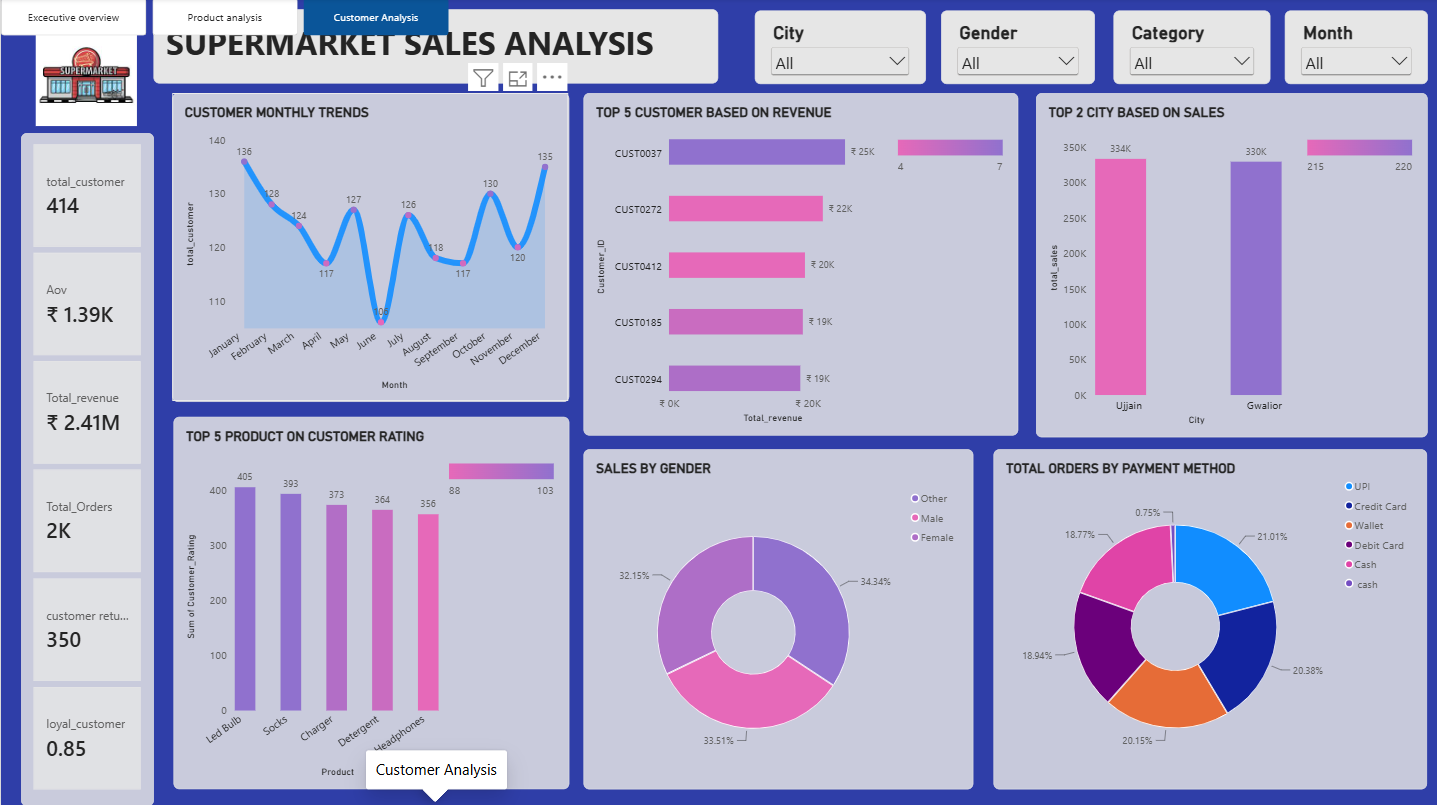

The page's visual inventory and layout, read from the dashboard file:
{"tool":"powerbi","page":{"name":"Customer Analysis","canvas":[1920,1080],"ordinal":2},"visuals":[{"type":"image","box":[0,34.4,228,135.7],"z":0},{"type":"textbox","box":[204.5,14.5,754.6,99.5],"z":1000},{"type":"cardVisual","fields":{"Data":["CATEGORY TARGETS.total_customer","Supermarket_Sales_Customer_Analysis_RAW (2).Aov","Supermarket_Sales_Customer_Analysis_RAW (2).Total_revenue","Supermarket_Sales_Customer_Analysis_RAW (2).Total_Orders","CATEGORY TARGETS.customer returning","Supermarket_Sales_Customer_Analysis_RAW (2).loyal_customer"]},"box":[27.1,181,177.3,899.4],"z":2000},{"type":"lineChart","title":"CUSTOMER MONTHLY TRENDS","fields":{"Category":["Supermarket_Sales_Customer_Analysis_RAW (2).Order_Date.Variation.Date Hierarchy.Month"],"Y":["CATEGORY TARGETS.total_customer"]},"box":[228,126.7,530.2,412.6],"z":3000},{"type":"donutChart","title":"SALES BY GENDER ","fields":{"Category":["Supermarket_Sales_Customer_Analysis_RAW (2).Gender"],"Y":["CATEGORY TARGETS.total_sales"]},"box":[778.2,602.6,521.2,454.2],"z":4000},{"type":"pieChart","title":"TOTAL ORDERS BY PAYMENT METHOD ","fields":{"Category":["Supermarket_Sales_Customer_Analysis_RAW (2).Payment_Method"],"Y":["Supermarket_Sales_Customer_Analysis_RAW (2).Total_Orders"]},"box":[1326.5,602.6,579.1,454.2],"z":5000},{"type":"clusteredColumnChart","title":"TOP 5 PRODUCT ON CUSTOMER RATING ","fields":{"Category":["Supermarket_Sales_Customer_Analysis_RAW (2).Product"],"Y":["Sum(Supermarket_Sales_Customer_Analysis_RAW (2).Customer_Rating)"]},"box":[229.8,559.2,528.4,497.7],"z":6000},{"type":"barChart","title":"TOP 5 CUSTOMER BASED ON REVENUE","fields":{"Category":["Supermarket_Sales_Customer_Analysis_RAW (2).Customer_ID"],"Y":["Supermarket_Sales_Customer_Analysis_RAW (2).Total_revenue"]},"box":[778.2,126.7,580.9,457.8],"z":7000},{"type":"columnChart","title":"TOP 2 CITY BASED ON SALES ","fields":{"Category":["Supermarket_Sales_Customer_Analysis_RAW (2).City"],"Y":["CATEGORY TARGETS.total_sales"]},"box":[1382.6,126.7,523,459.7],"z":8000},{"type":"slicer","fields":{"Values":["Supermarket_Sales_Customer_Analysis_RAW (2).City"]},"box":[1006.5,16.5,228.5,98.8],"z":9000},{"type":"slicer","fields":{"Values":["Supermarket_Sales_Customer_Analysis_RAW (2).Gender"]},"box":[1255.6,16.5,205.8,98.8],"z":10000},{"type":"slicer","fields":{"Values":["Supermarket_Sales_Customer_Analysis_RAW (2).Category"]},"box":[1486.1,16.5,209.9,98.8],"z":11000},{"type":"slicer","fields":{"Values":["Supermarket_Sales_Customer_Analysis_RAW (2).Order_Date.Variation.Date Hierarchy.Month"]},"box":[1714.6,16.5,191.4,98.8],"z":12000},{"type":"pageNavigator","box":[0,0,600,50],"z":13000}]}

Visuals, with their boxes in screenshot pixels (x1, y1, x2, y2):
image: select_region(0, 22, 168, 121)
textbox: select_region(150, 7, 705, 80)
cardVisual - CATEGORY TARGETS.total_customer x Supermarket_Sales_Customer_Analysis_RAW (2).Aov: select_region(20, 129, 150, 790)
"CUSTOMER MONTHLY TRENDS" lineChart: select_region(168, 89, 557, 392)
"SALES BY GENDER " donutChart: select_region(572, 439, 955, 773)
"TOTAL ORDERS BY PAYMENT METHOD " pieChart: select_region(975, 439, 1400, 773)
"TOP 5 PRODUCT ON CUSTOMER RATING " clusteredColumnChart: select_region(169, 407, 557, 773)
"TOP 5 CUSTOMER BASED ON REVENUE" barChart: select_region(572, 89, 998, 426)
"TOP 2 CITY BASED ON SALES " columnChart: select_region(1016, 89, 1400, 427)
slicer - Supermarket_Sales_Customer_Analysis_RAW (2).City: select_region(739, 8, 907, 81)
slicer - Supermarket_Sales_Customer_Analysis_RAW (2).Gender: select_region(922, 8, 1074, 81)
slicer - Supermarket_Sales_Customer_Analysis_RAW (2).Category: select_region(1092, 8, 1246, 81)
slicer - Supermarket_Sales_Customer_Analysis_RAW (2).Order_Date.Variation.Date Hierarchy.Month: select_region(1260, 8, 1400, 81)
pageNavigator: select_region(0, 0, 441, 33)
